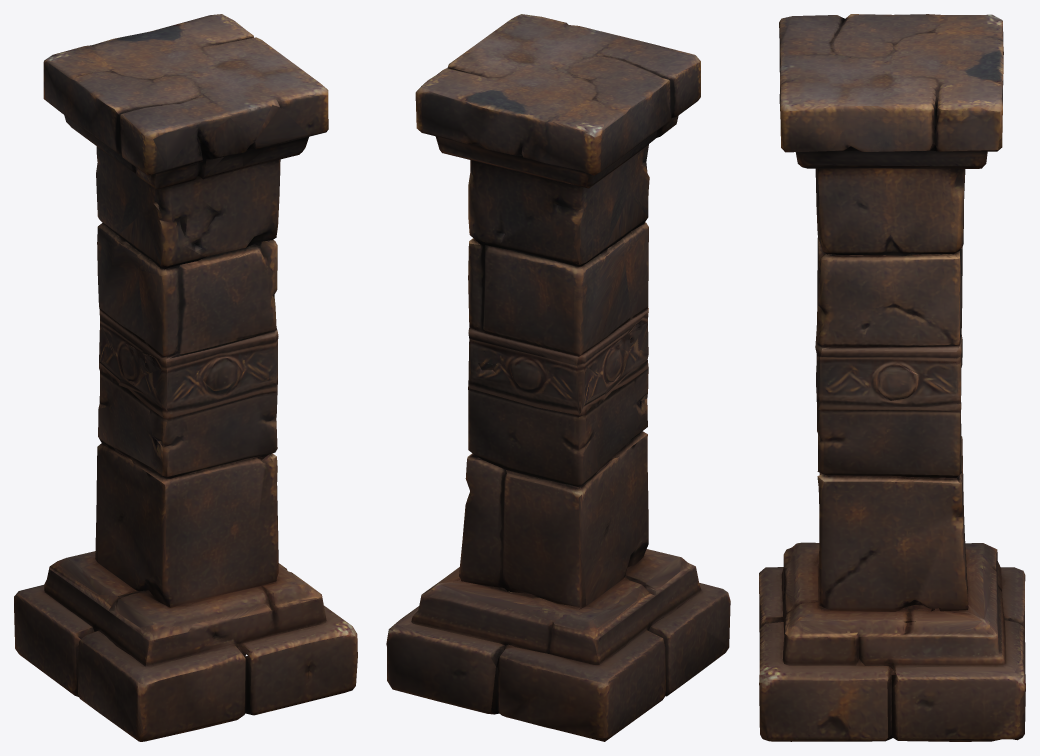
Rendered from dungeon-stone-pillar-mobile.glb.
3 renders of one model, left to right at view 1: azimuth 30°, elevation 25°; view 2: azimuth 150°, elevation 25°; view 3: azimuth 270°, elevation 25°, orthographic. The views are drawn at different scales.
Parts seen in each view (by area): view 1: dungeon-stone-pillar; view 2: dungeon-stone-pillar; view 3: dungeon-stone-pillar.
Boxes of the visible parts, left/top/right/bottom form: dungeon-stone-pillar: left=14, top=14, right=357, bottom=741; dungeon-stone-pillar: left=386, top=14, right=730, bottom=741; dungeon-stone-pillar: left=759, top=14, right=1025, bottom=741.
Bounding box in the file's own units: 1.69 × 4.4 × 1.69.
Materials: 1 (1 with a texture image).
